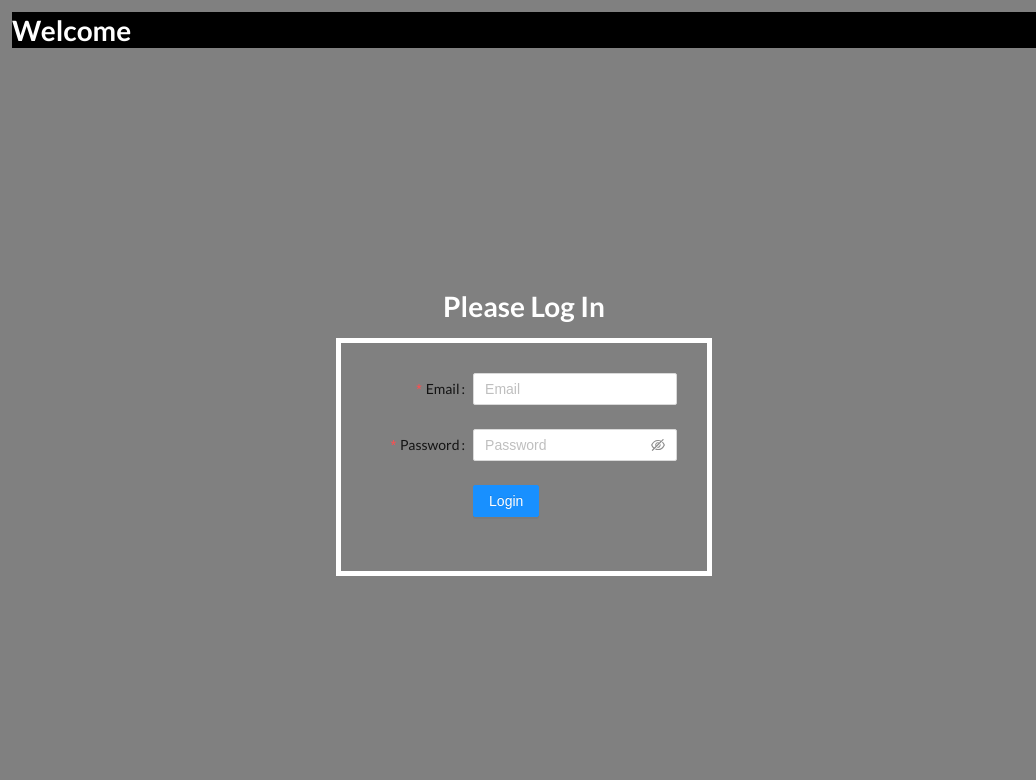
e_records success scenario › login success action
firing onchange event for both email and password with success credentials
Type "test1234@gmail.com" into the field with placeholder "Email".
click(575, 389); type("test1234@gmail.com")  # box [473,373,677,405]
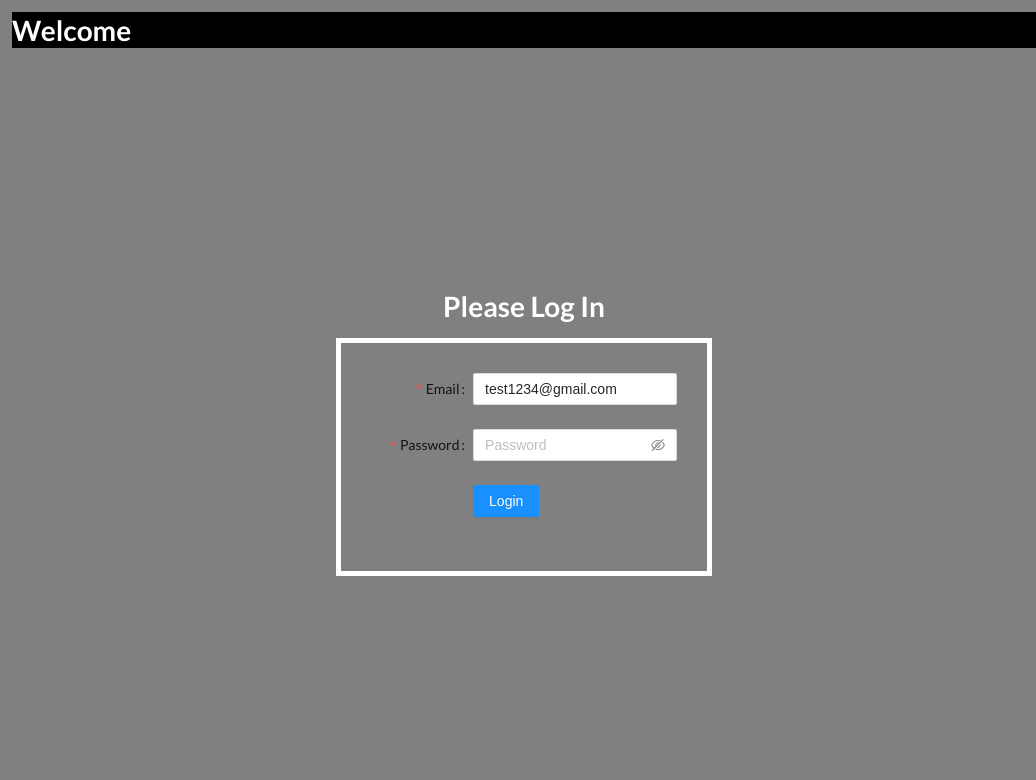
Type "myPassword" into the password field with placeholder "Password".
click(566, 445); type("myPassword")  # box [485,434,647,456]
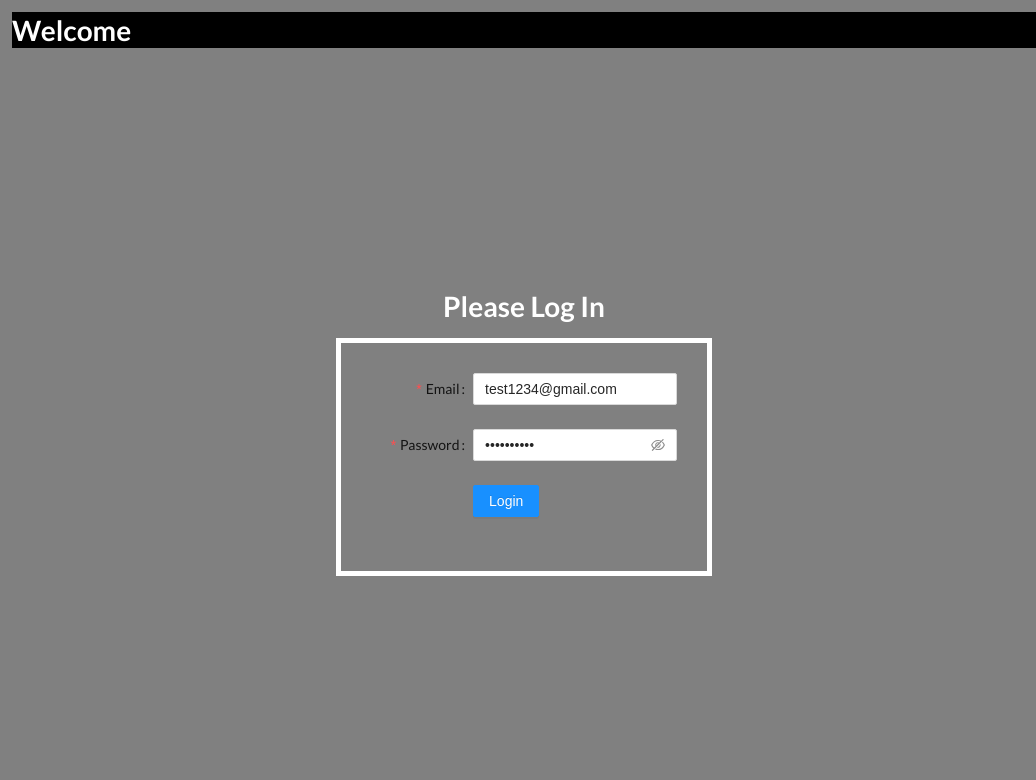
firing click event on login button once data is filled
Click the button "Login".
click(506, 501)  # box [473,485,539,517]
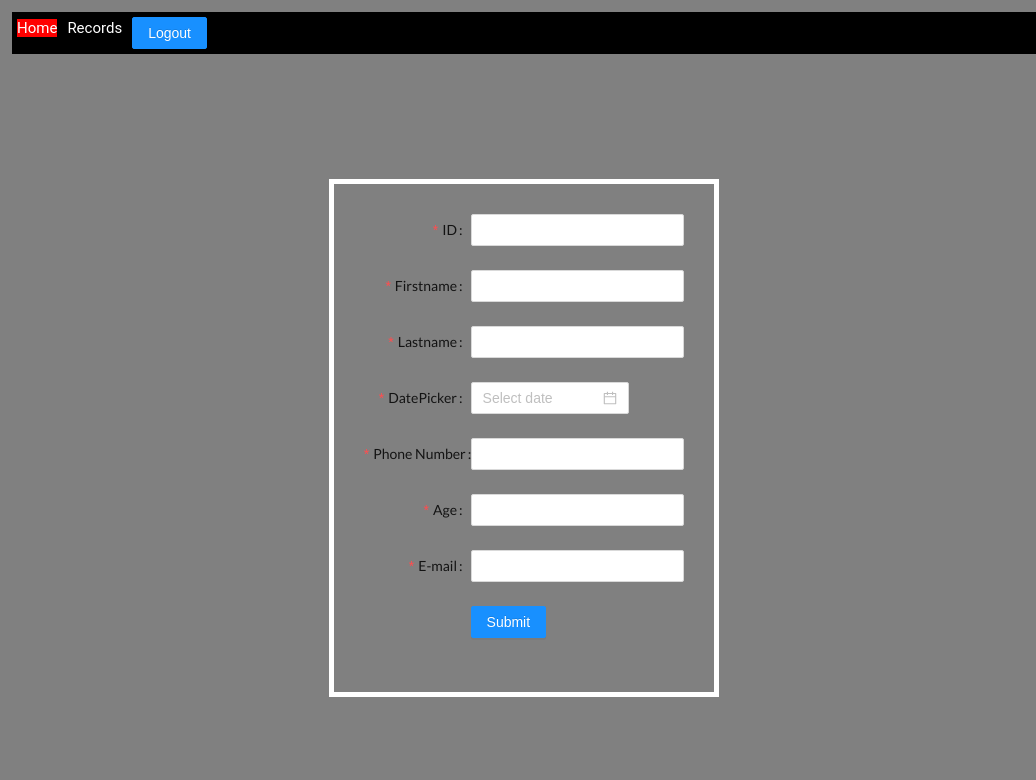
Now the link "Home" is shown, box [17,19,57,37]
Now the link "Records" is shown, box [67,19,122,37]
